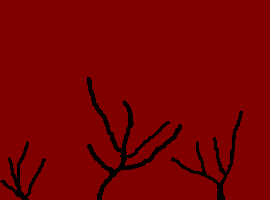Sky: (1, 1, 269, 199)
